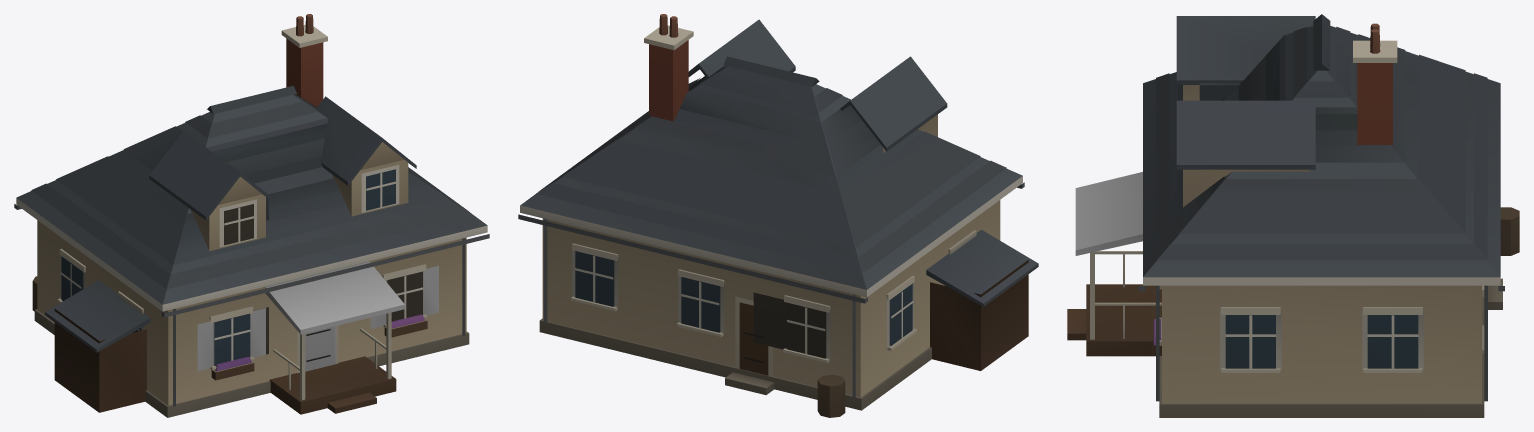
The model's file is bld_any_house_b.glb.
The picture shows the model from 3 angles, left to right: view 1: azimuth 30°, elevation 25°; view 2: azimuth 150°, elevation 25°; view 3: azimuth 270°, elevation 25°; orthographic projection. The views are drawn at different scales.
Visible parts, largest first — view 1: bld_any_house_b_LOD0_mesh, bld_any_house_b_LOD1_mesh; view 2: bld_any_house_b_LOD0_mesh, bld_any_house_b_LOD1_mesh, bld_any_house_b_LOD2_mesh; view 3: bld_any_house_b_LOD0_mesh, bld_any_house_b_LOD1_mesh, bld_any_house_b_LOD2_mesh.
Boxes of the visible parts, box(x1,y1,x2,y2) form: bld_any_house_b_LOD0_mesh: box(14, 14, 489, 414); bld_any_house_b_LOD1_mesh: box(34, 42, 469, 417); bld_any_house_b_LOD0_mesh: box(518, 14, 1038, 417); bld_any_house_b_LOD1_mesh: box(539, 19, 1000, 410); bld_any_house_b_LOD2_mesh: box(694, 66, 819, 349); bld_any_house_b_LOD0_mesh: box(1067, 14, 1519, 401); bld_any_house_b_LOD1_mesh: box(1075, 16, 1484, 417); bld_any_house_b_LOD2_mesh: box(1199, 26, 1354, 103).
Size of the model in its own units: 12.25 by 9.03 by 10.75.
